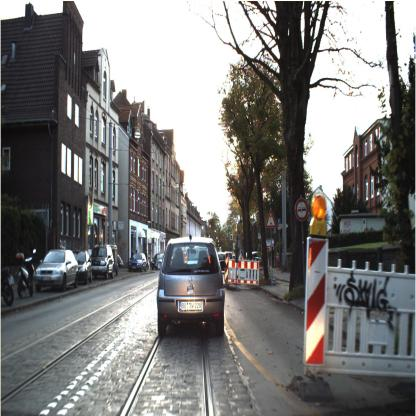no overtaking trucks: (294, 197, 309, 222)
traffic signal: (265, 208, 277, 228)
